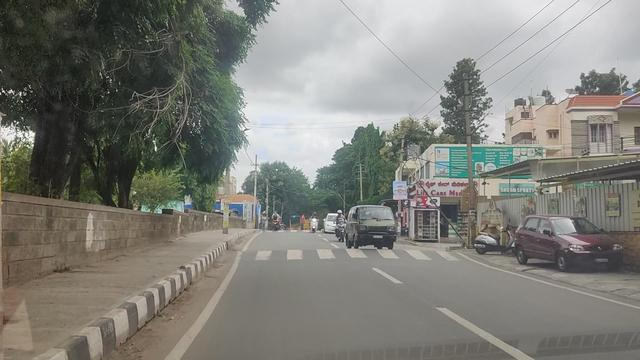LMV: (347, 205, 396, 250)
SpeedBump: (232, 247, 454, 259)
